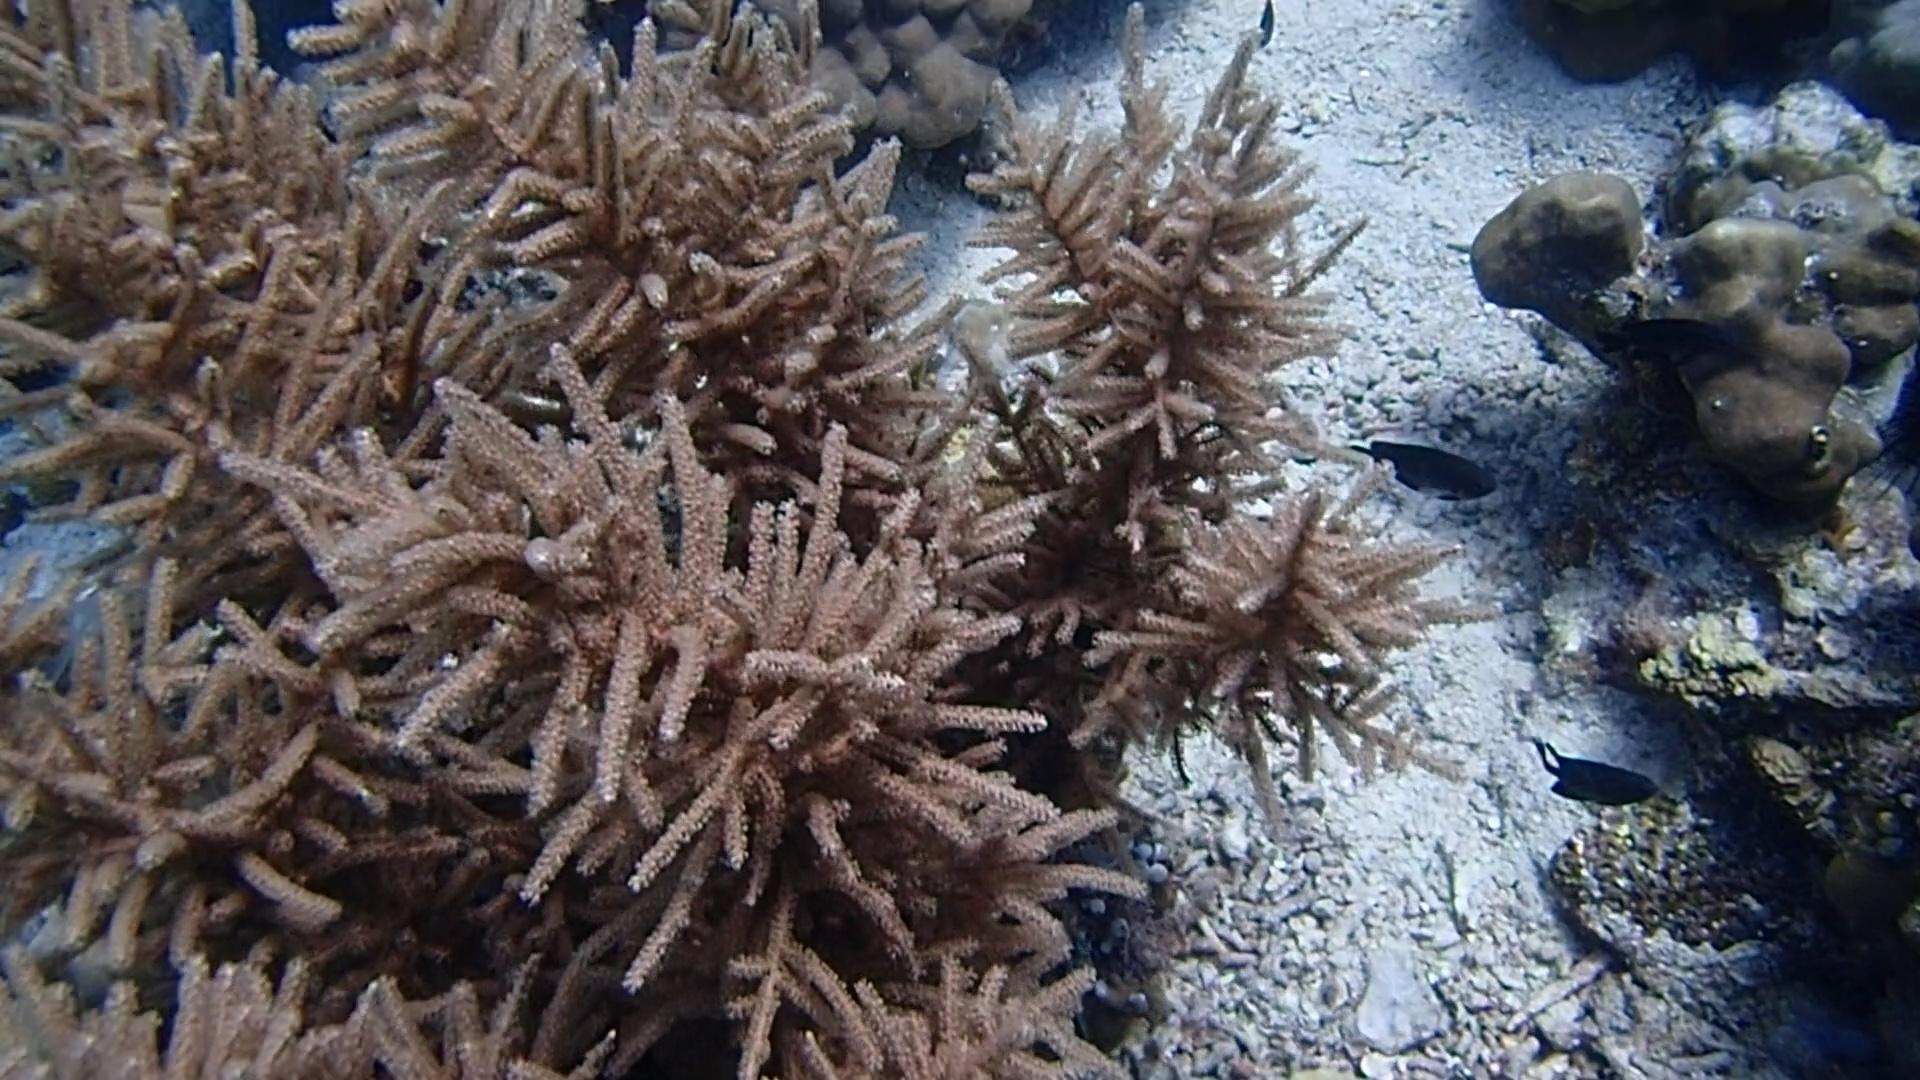Dark Fish: (1346, 422, 1507, 516), (1534, 735, 1660, 820), (1584, 302, 1741, 369)
Yellow Tail: (1242, 0, 1296, 53)
